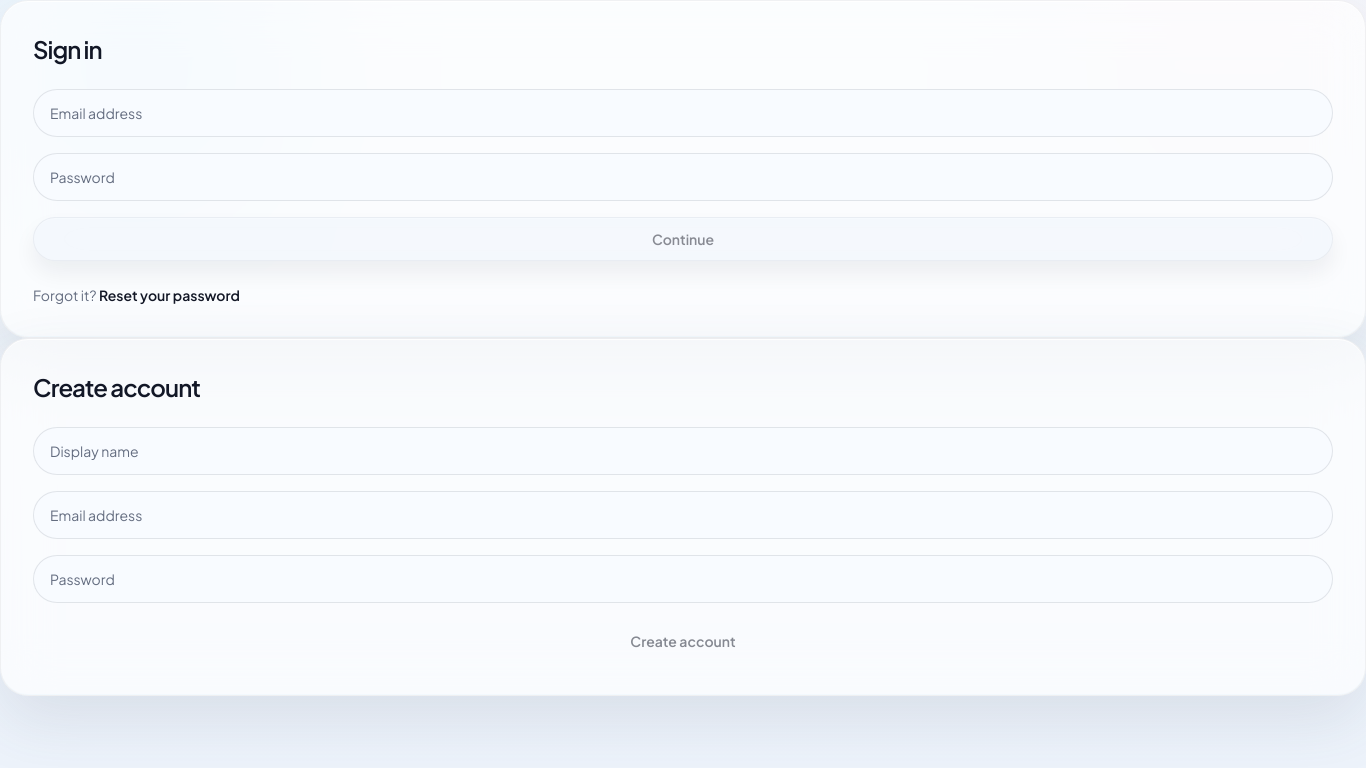
Test: SignInPanels › shows the duplicate-email error returned by the signup API
This screenshot has width=1366, height=768.
Type "Cindy" into the field with placeholder "Display name" at (683, 451), box [33, 427, 1333, 475]
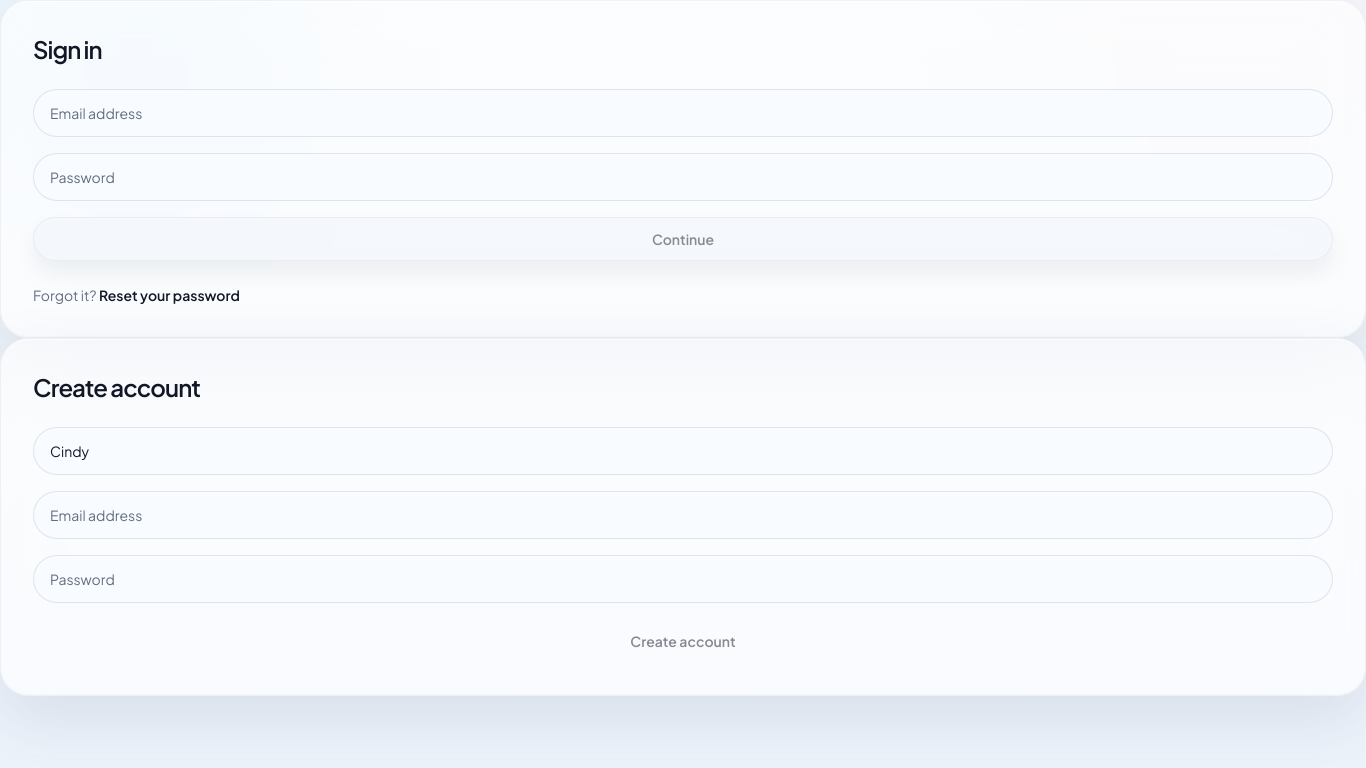
Type "cindyt07+test3@mit.edu" into the 2nd field with placeholder "Email address" at (683, 515), box [33, 491, 1333, 539]
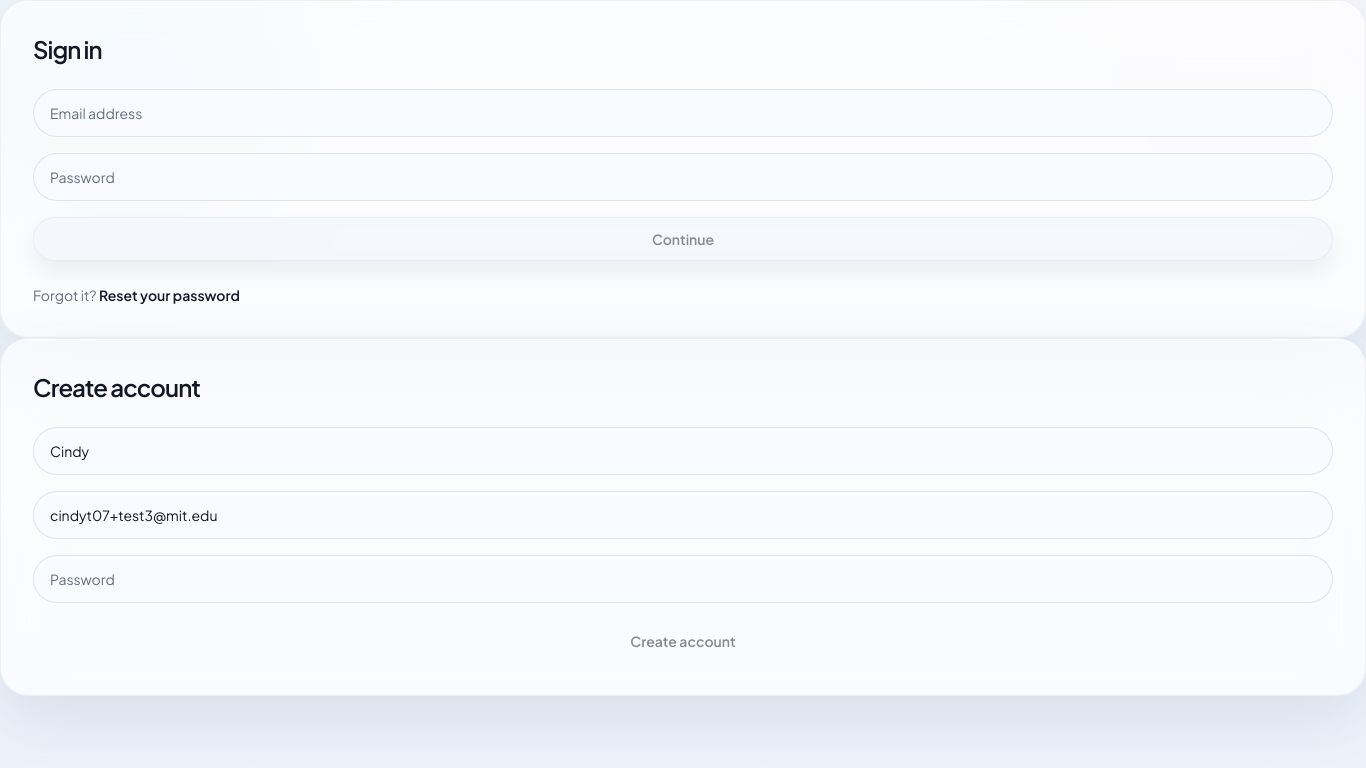
Type "StrongPassword123" into the 2nd password field with placeholder "Password" at (683, 579), box [33, 555, 1333, 603]
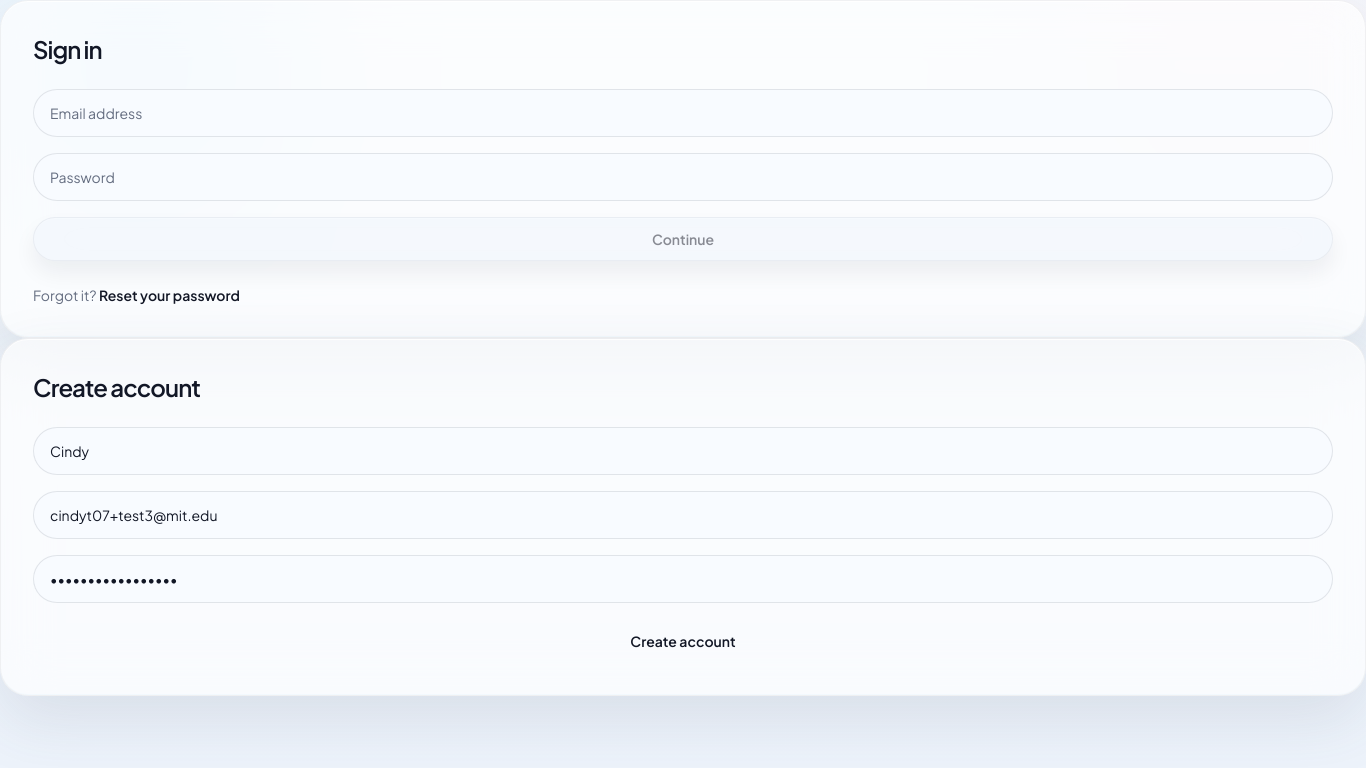
Click the button "Create account" at (683, 641), box [33, 619, 1333, 663]
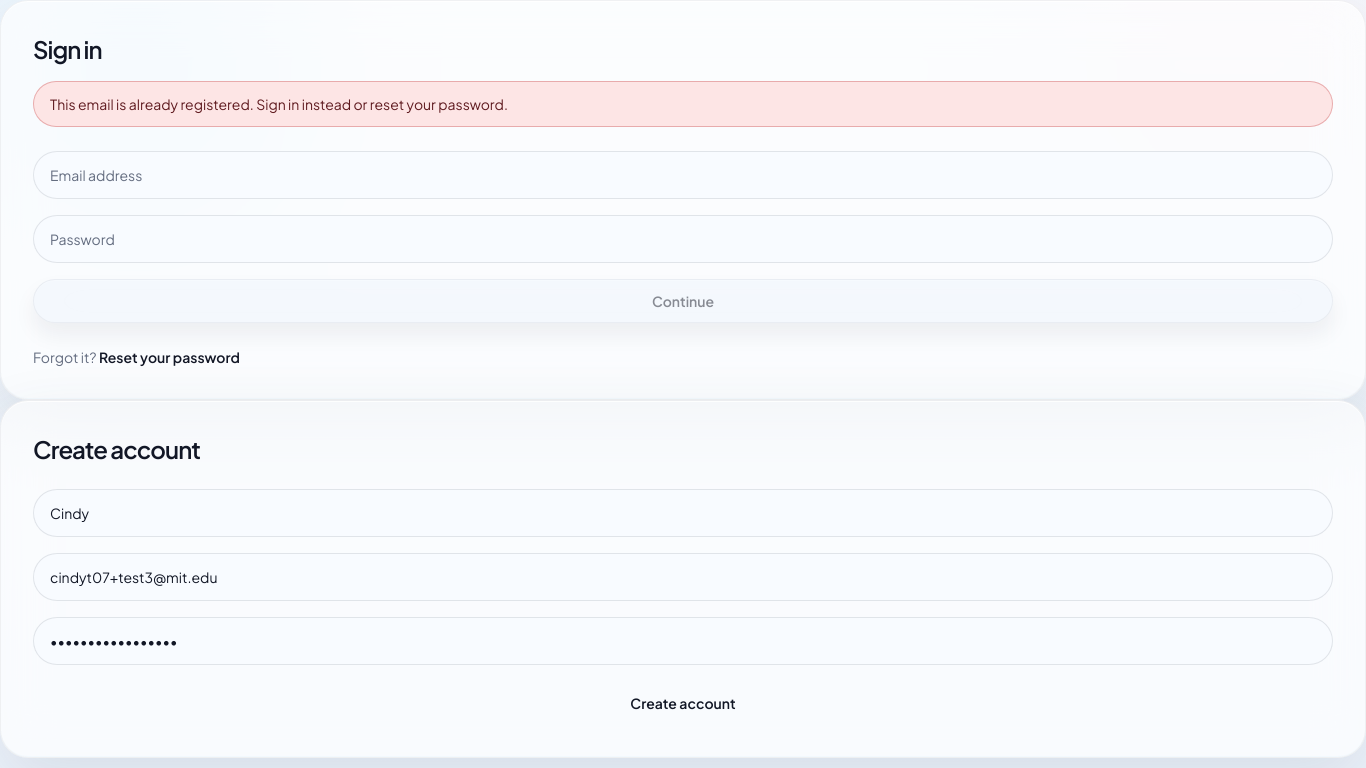
expect the text "This email is already registered. Sign in instead or reset your password." is shown: met, box [33, 81, 1333, 127]
